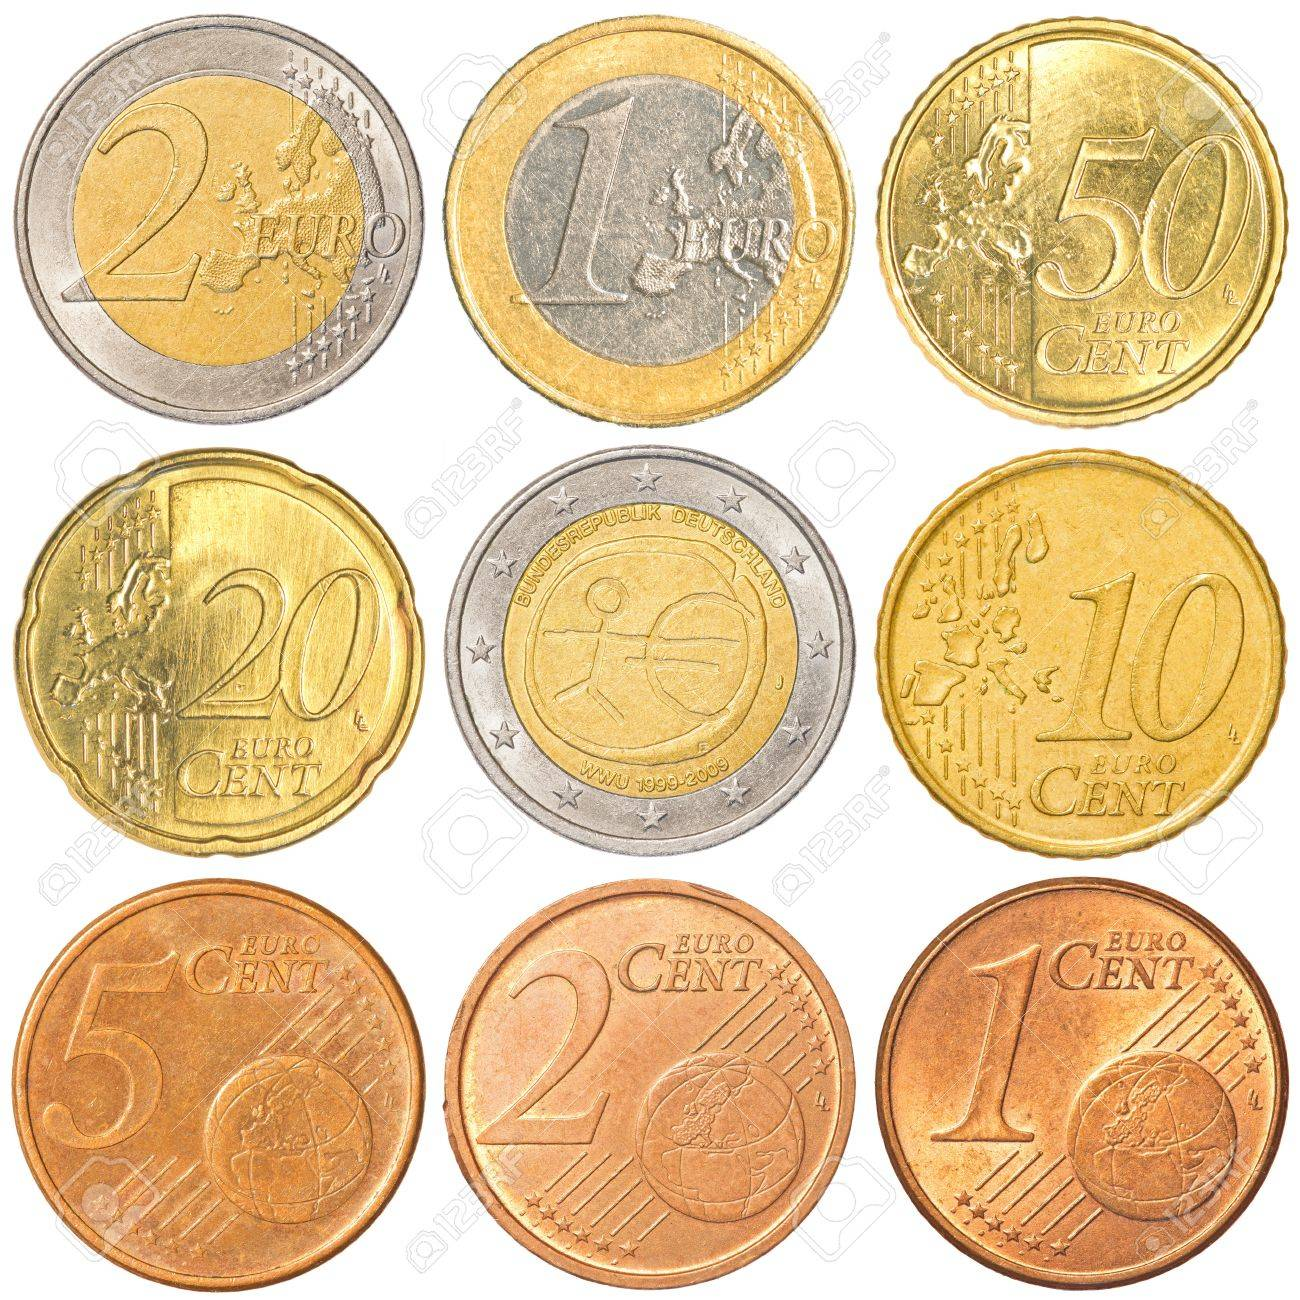euro_1: (445, 1, 858, 440)
euro_2: (7, 1, 440, 433)
